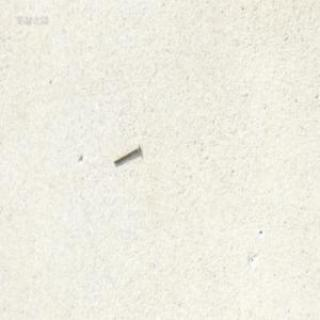Bolttrack_idkeyframe: (111, 142, 138, 164)
